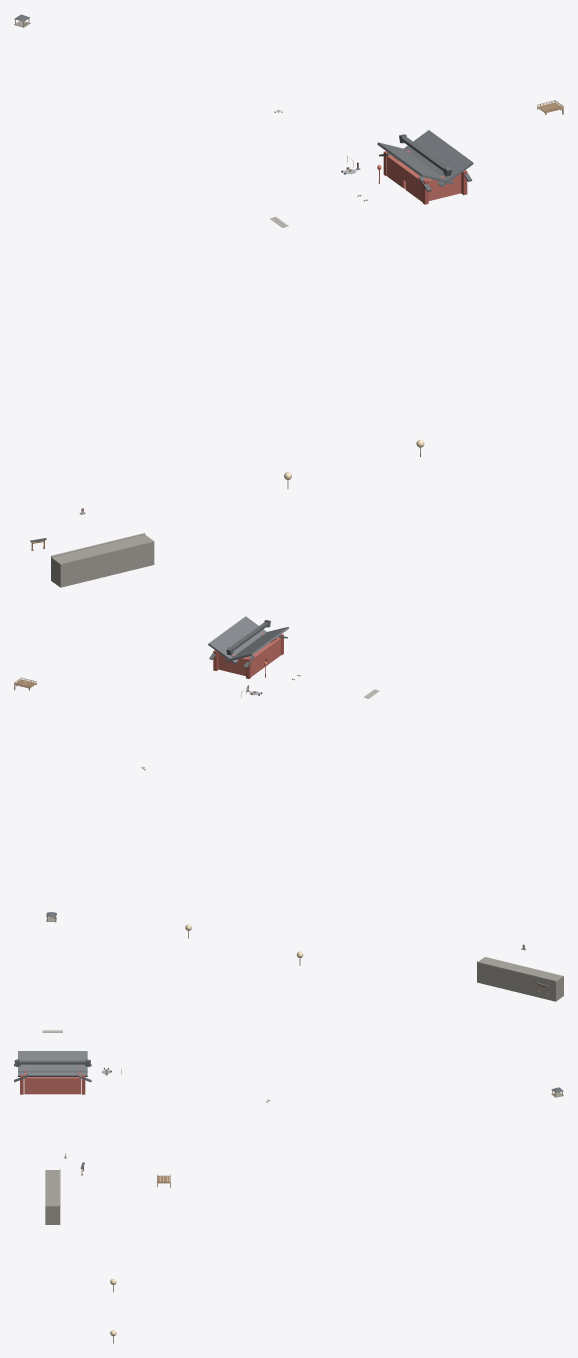
The model's file is tile_500_-500.glb.
3 views of the same model, one above another, from view 1: azimuth 30°, elevation 25°; view 2: azimuth 150°, elevation 25°; view 3: azimuth 270°, elevation 25° (orthographic). The views are drawn at different scales.
Parts seen in each view (by area): view 1: tile; view 2: tile; view 3: tile.
Boxes of the visible parts, x1,y1,x2,y2 form: tile: (14, 14, 563, 587); tile: (14, 616, 563, 1001); tile: (14, 1030, 563, 1343).
Size of the model in its own units: 315 by 178 by 327.
52 materials, 4 textured.
